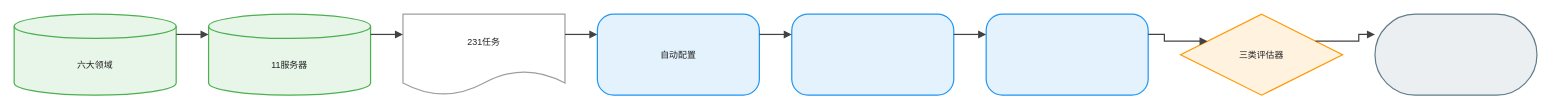
Some shapes in this 1552 by 110 pixel diagram are drawn without their labels. Here are the shapes that lost their labels. From the top down, the box of each, then its label:
(791, 13, 954, 95): 智能体构建
(985, 13, 1148, 95): MCP运行
(1374, 13, 1537, 95): 成功率
